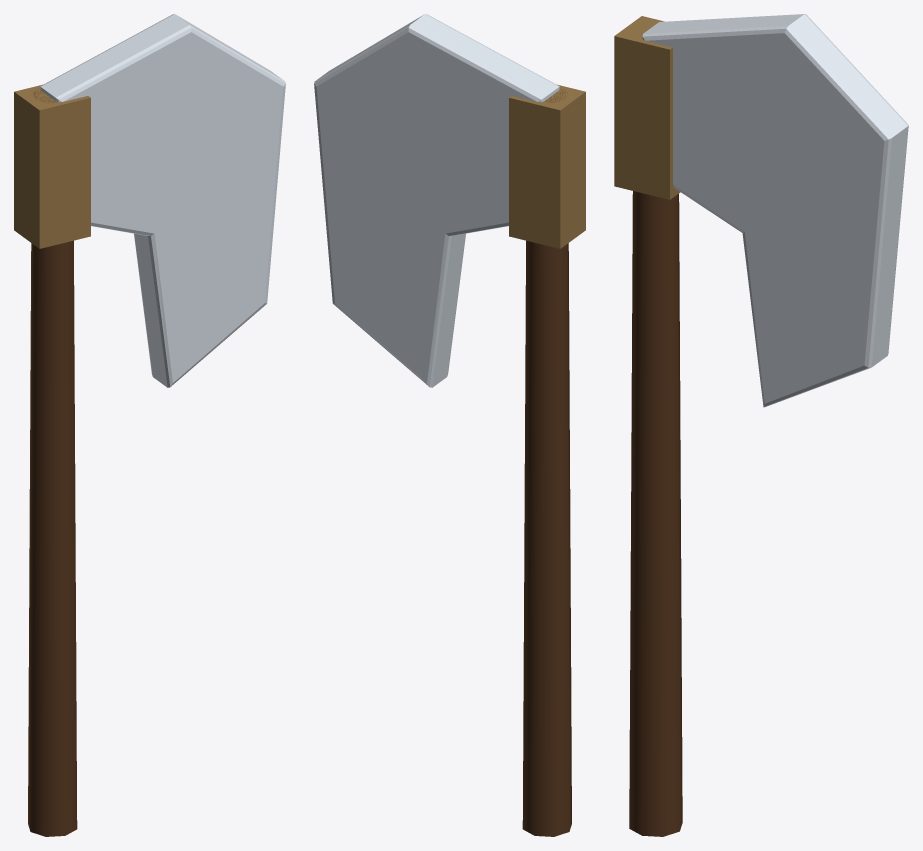
The model's file is axe_f1_22f20871.glb.
3 renders of one model, left to right at view 1: azimuth 30°, elevation 25°; view 2: azimuth 150°, elevation 25°; view 3: azimuth 330°, elevation 25°, orthographic. The views are drawn at different scales.
Parts seen in each view (by area): view 1: m1_ow80_, m0_ow80_, m2_ow80_; view 2: m1_ow80_, m0_ow80_, m2_ow80_; view 3: m1_ow80_, m0_ow80_, m2_ow80_.
Boxes of the visible parts, <box> form: m1_ow80_: <box>40,14,285,387</box>; m0_ow80_: <box>28,89,77,836</box>; m2_ow80_: <box>14,84,90,248</box>; m1_ow80_: <box>314,14,559,387</box>; m0_ow80_: <box>522,89,571,836</box>; m2_ow80_: <box>509,84,585,248</box>; m1_ow80_: <box>642,14,908,407</box>; m0_ow80_: <box>629,191,682,836</box>; m2_ow80_: <box>614,16,680,199</box>.
Bounding box in the file's own units: 0.6825 × 2.01 × 0.12.
